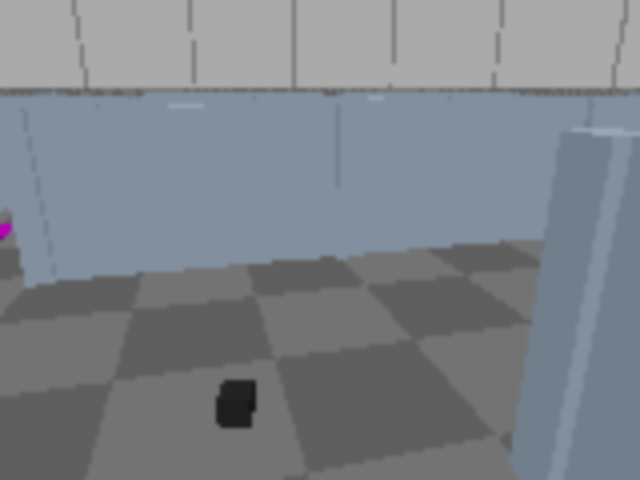goal_zone: (0, 223, 21, 264)
puck: (216, 380, 256, 427)
